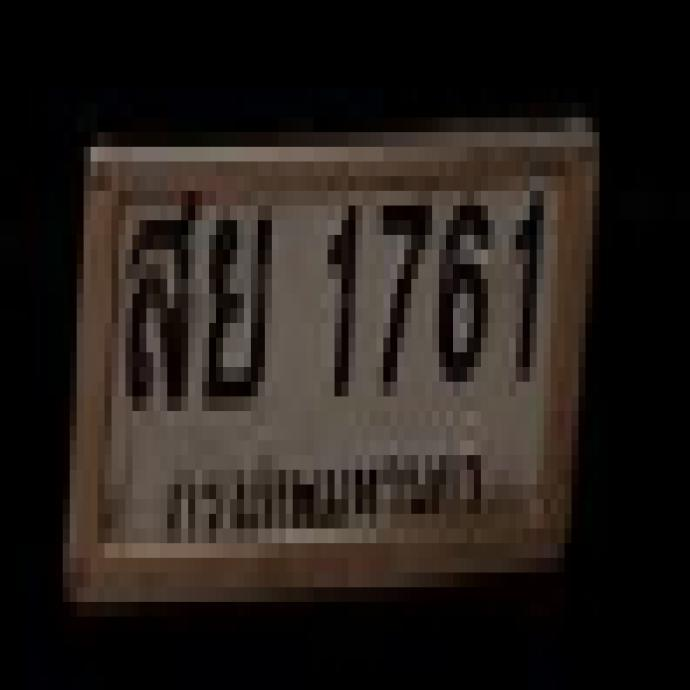1: (323, 195, 355, 386), (509, 186, 538, 369)
6: (435, 192, 485, 372)
7: (377, 192, 426, 382)
A34: (205, 202, 268, 399)
A40: (122, 181, 196, 398)
BKK: (159, 432, 494, 553)
